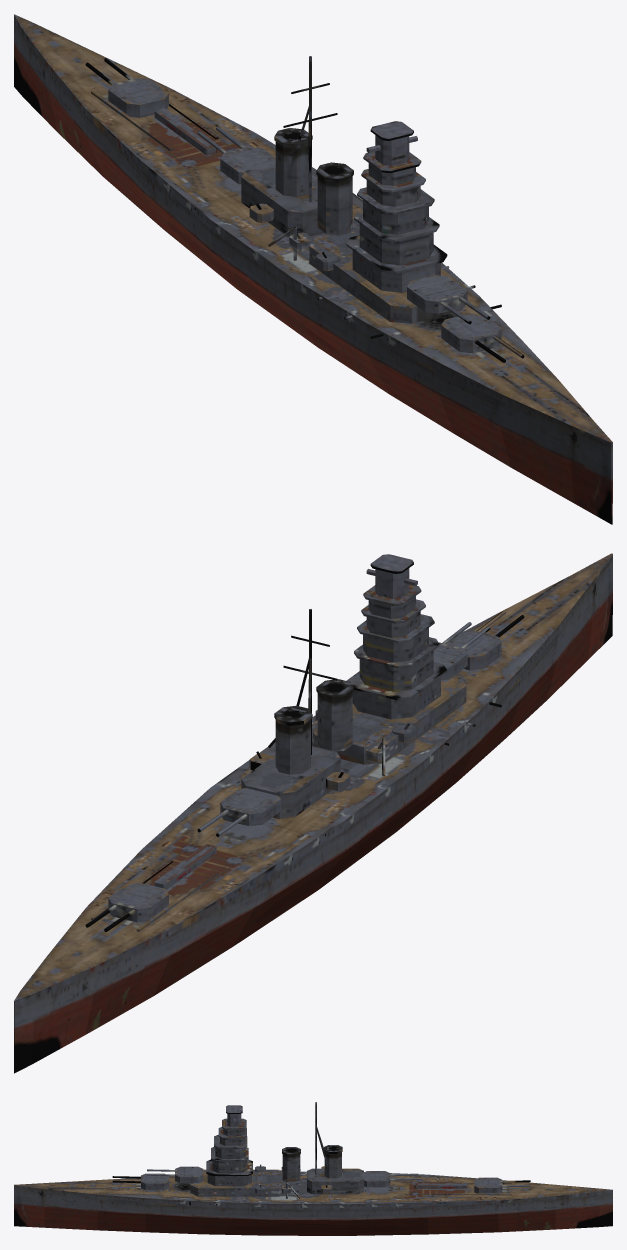
Rendered from simple-medium.glb.
3 renders of one model, top to bottom at view 1: azimuth 30°, elevation 25°; view 2: azimuth 150°, elevation 25°; view 3: azimuth 270°, elevation 25°, orthographic. The views are drawn at different scales.
Visible parts, largest first — view 1: Authored hull sections, Authored deck outline, Deckhouse 0, Deckhouse 1, Pagoda tier 1, Pagoda tier 0, Funnel 0, Main turret JGM049Shape1, Main turret JGM049Shape, Main turret JGM050Shape, Pagoda tier 2, Funnel 1 (+6 smaller); view 2: Authored hull sections, Authored deck outline, Deckhouse 0, Deckhouse 1, Pagoda tier 0, Pagoda tier 1, Funnel 0, Main turret JGM049Shape1, Funnel 1, Main turret JGM050Shape1, Pagoda tier 2, Main turret JGM049Shape (+6 smaller); view 3: Authored hull sections, Authored deck outline, Deckhouse 0, Deckhouse 1, Pagoda tier 0, Funnel 0, Main turret JGM049Shape1, Main turret JGM050Shape, Pagoda tier 1, Main turret JGM049Shape, Main turret JGM050Shape1, Funnel 1 (+7 smaller).
Boxes of the visible parts, box(x1,y1,x2,y2) form: Authored hull sections: box(14, 15, 612, 524); Authored deck outline: box(14, 14, 612, 442); Deckhouse 0: box(309, 226, 466, 323); Deckhouse 1: box(241, 163, 323, 236); Pagoda tier 1: box(359, 215, 433, 265); Pagoda tier 0: box(352, 238, 440, 292); Funnel 0: box(317, 176, 352, 235); Main turret JGM049Shape1: box(108, 78, 168, 117); Main turret JGM049Shape: box(441, 313, 501, 353); Main turret JGM050Shape: box(407, 275, 467, 313); Pagoda tier 2: box(363, 190, 428, 234); Funnel 1: box(275, 141, 308, 196); Authored hull sections: box(14, 554, 612, 1073); Authored deck outline: box(14, 553, 612, 1000); Deckhouse 0: box(312, 675, 466, 764); Deckhouse 1: box(241, 746, 340, 819); Pagoda tier 0: box(352, 663, 440, 719); Pagoda tier 1: box(359, 639, 433, 691); Funnel 0: box(317, 692, 352, 751); Main turret JGM049Shape1: box(108, 882, 168, 922); Funnel 1: box(275, 719, 310, 774); Main turret JGM050Shape1: box(220, 788, 280, 826); Pagoda tier 2: box(363, 615, 428, 662); Main turret JGM049Shape: box(447, 630, 501, 670); Authored hull sections: box(14, 1185, 612, 1235); Authored deck outline: box(14, 1171, 612, 1204); Deckhouse 0: box(190, 1169, 286, 1196); Deckhouse 1: box(307, 1168, 363, 1194); Pagoda tier 0: box(207, 1166, 251, 1186); Funnel 0: box(282, 1154, 300, 1182); Main turret JGM049Shape1: box(474, 1177, 502, 1193); Main turret JGM050Shape: box(175, 1166, 203, 1182); Pagoda tier 1: box(212, 1148, 247, 1173); Main turret JGM049Shape: box(141, 1173, 168, 1190); Main turret JGM050Shape1: box(364, 1171, 390, 1187); Funnel 1: box(324, 1152, 341, 1178).
Bounding box in the file's own units: 17.64 × 31 × 136.
1 material, 1 textured.
